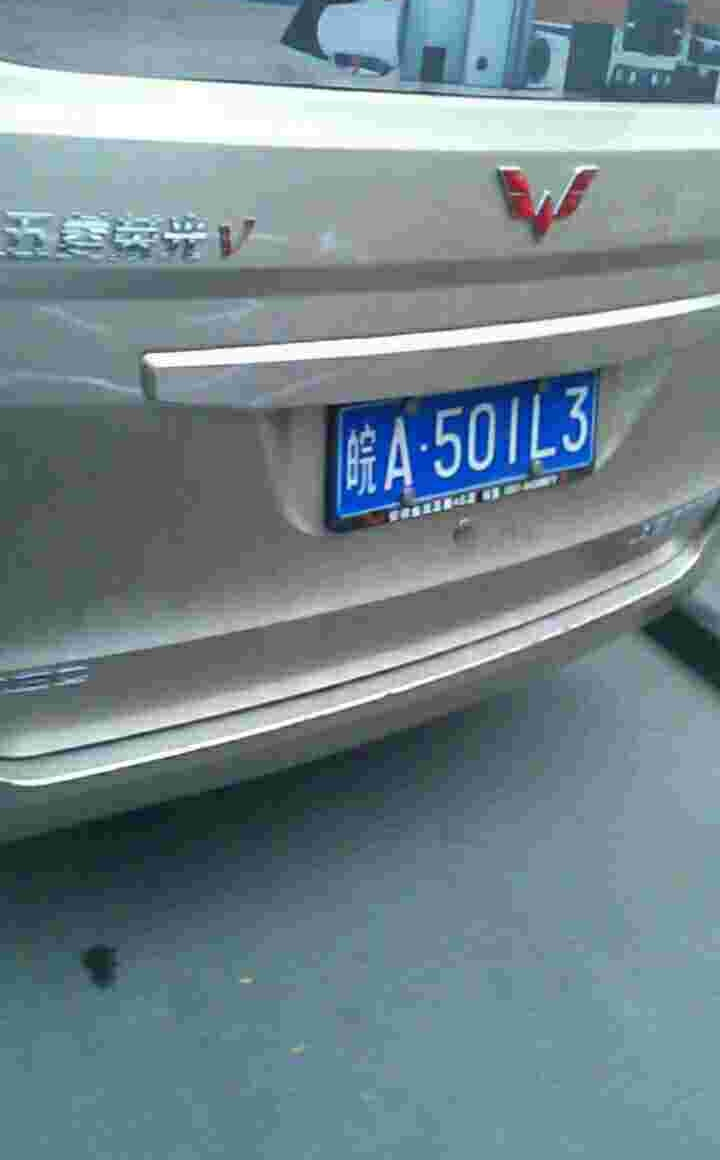car: (332, 371, 592, 483)
